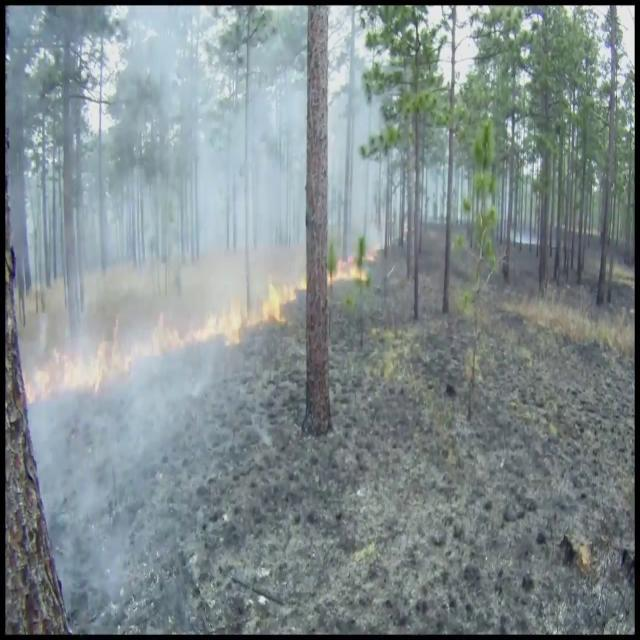Fire: (184, 260, 307, 360), (328, 252, 366, 286)
Smoke: (13, 8, 324, 630)
